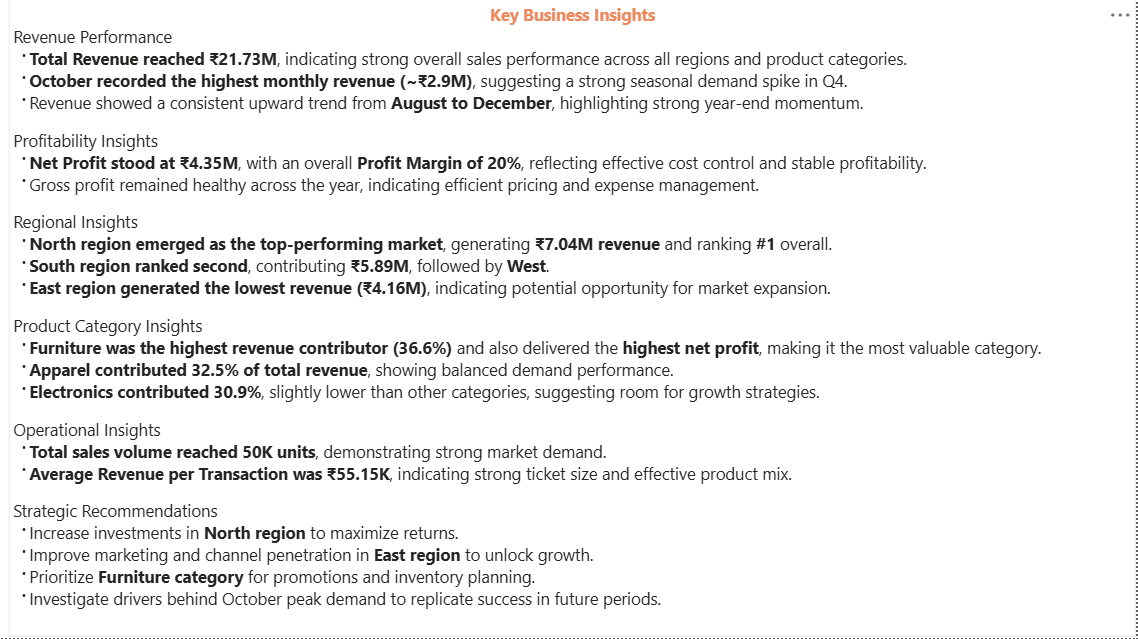

What the dashboard file says about the page in this screenshot:
{"tool":"powerbi","page":{"name":"Insights","canvas":[1280,720],"ordinal":1},"visuals":[{"type":"textbox","box":[9.6,0,1270.7,720.4],"z":0}]}

Visuals, with their boxes in screenshot pixels (x1, y1, x2, y2), scaled from the page's 1280x720 canvas onto the 1138x639 screenshot:
textbox: {"left": 9, "top": 0, "right": 1137, "bottom": 638}
